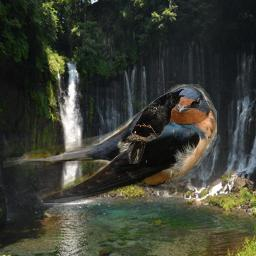Crow: (126, 87, 187, 164)
Swallow: (3, 84, 217, 203)
